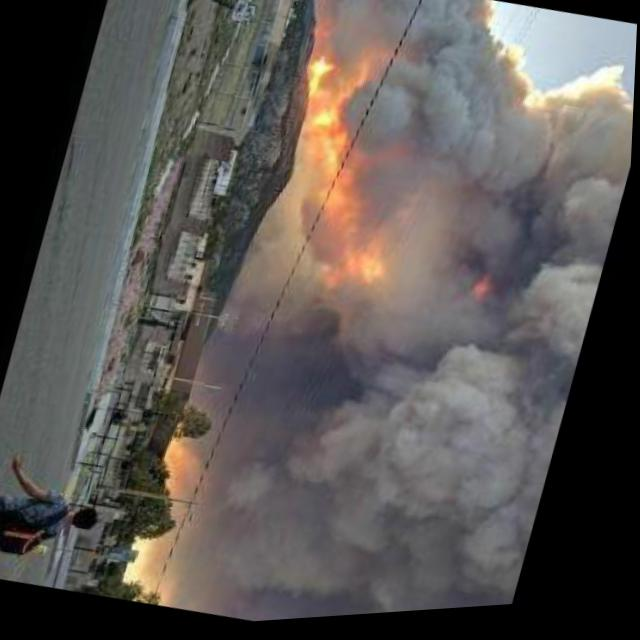Fire: (158, 0, 640, 631), (264, 29, 382, 215), (316, 188, 409, 308)
